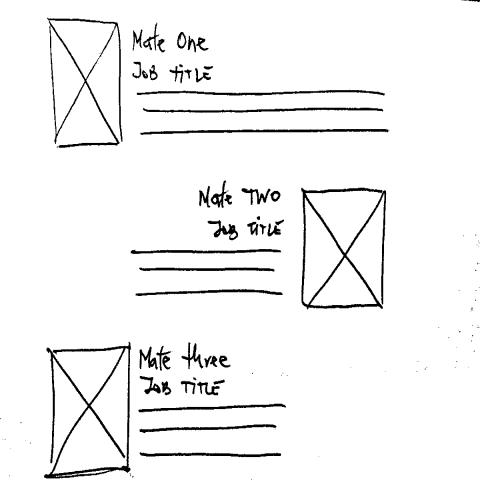Image: (45, 343, 135, 480), (299, 186, 387, 313), (46, 16, 125, 150)
Paragraph: (135, 86, 389, 136), (138, 402, 289, 460), (128, 245, 285, 299)
